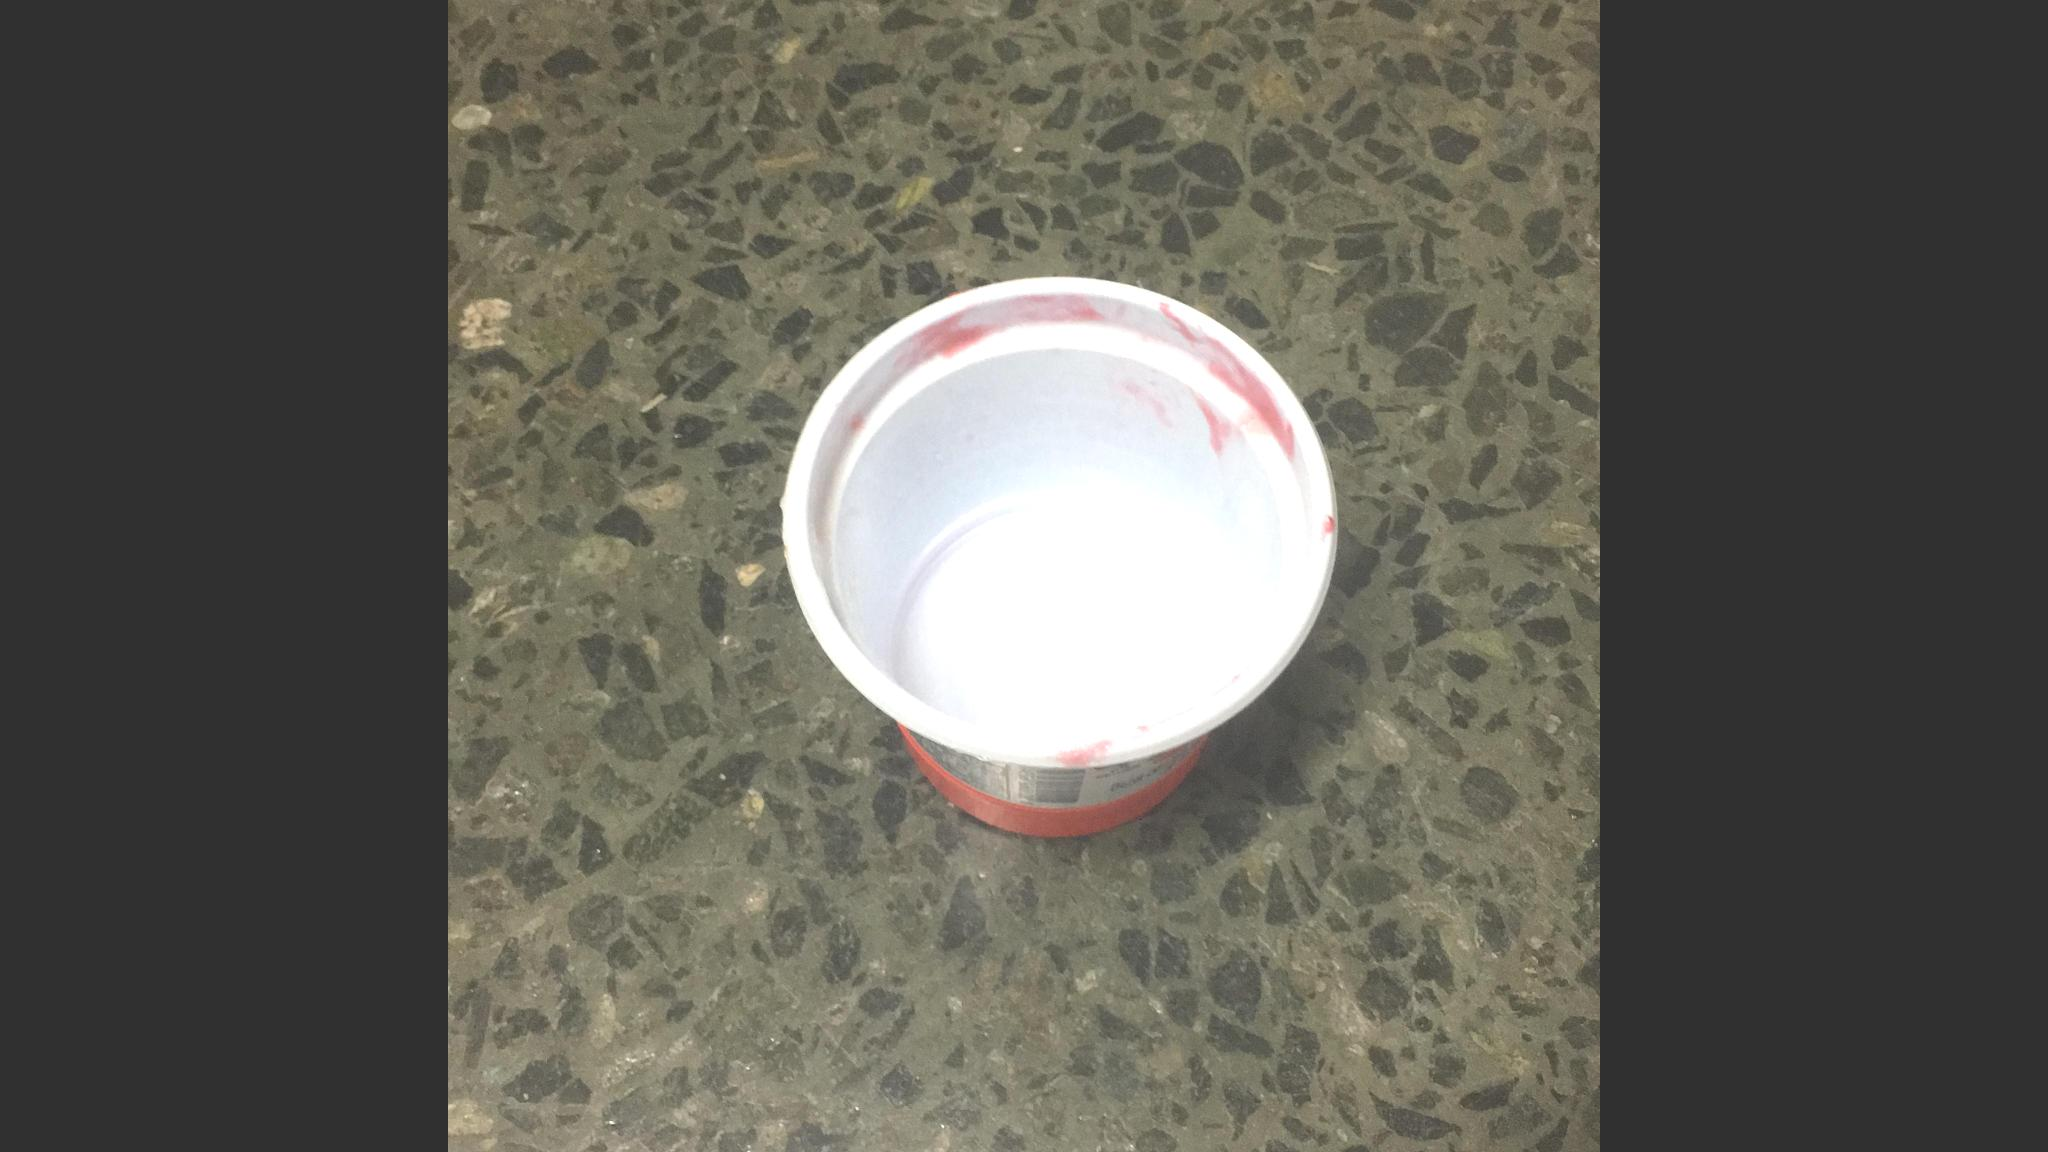bottle: (847, 0, 1200, 994)
